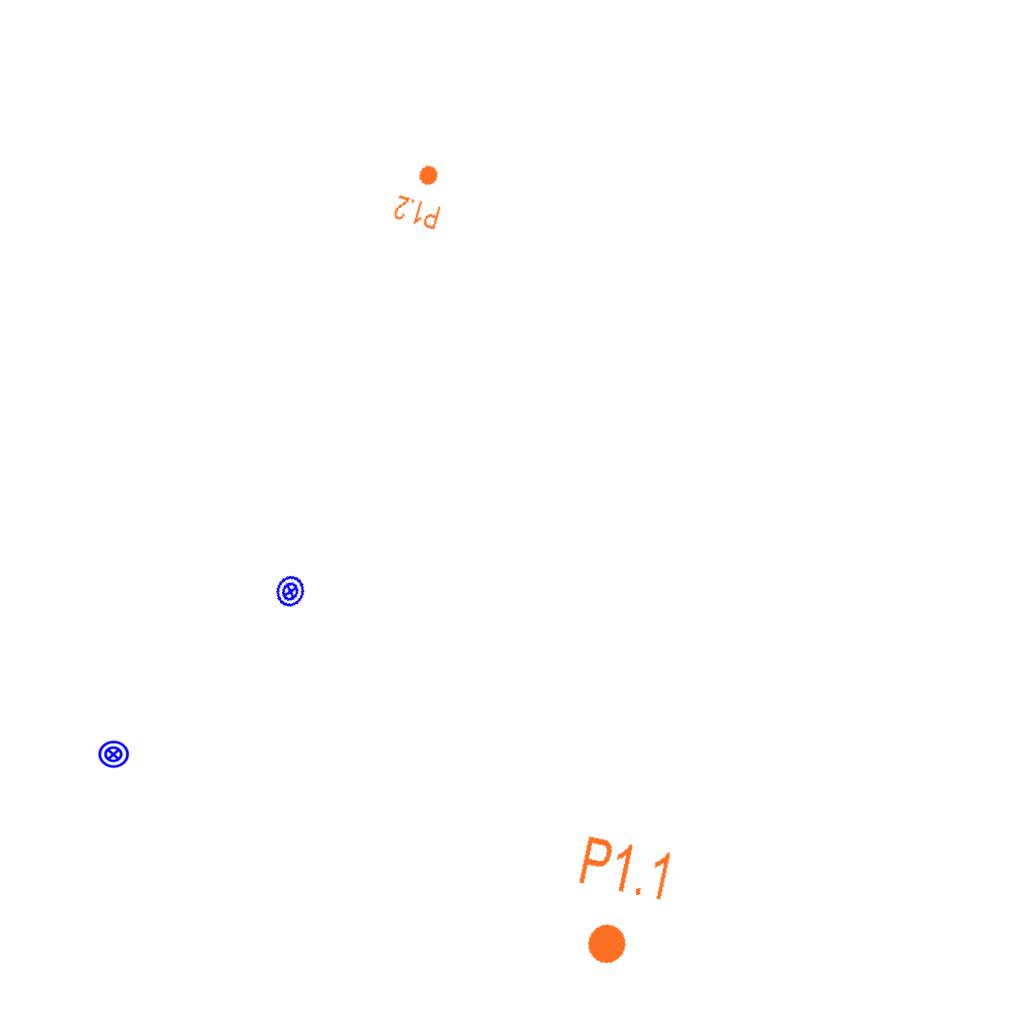Downlight_LED_Einbauleuchten_Flur: (559, 831, 678, 977), (391, 157, 453, 233)
Taster_beleuchtet: (269, 570, 312, 613), (97, 738, 130, 771)
